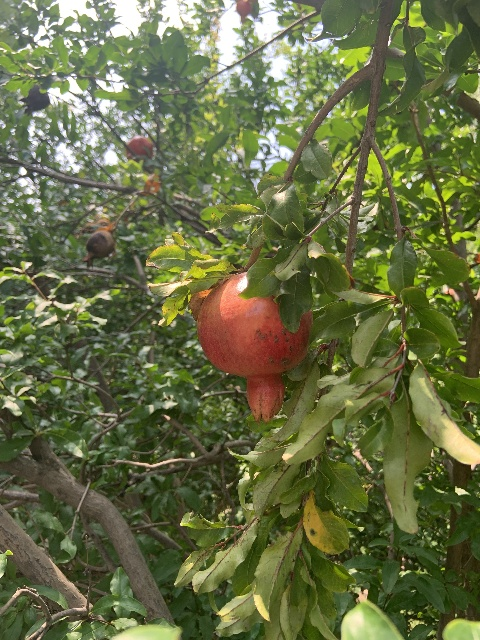ripe: (196, 271, 312, 423), (126, 135, 153, 160), (236, 0, 250, 23)
